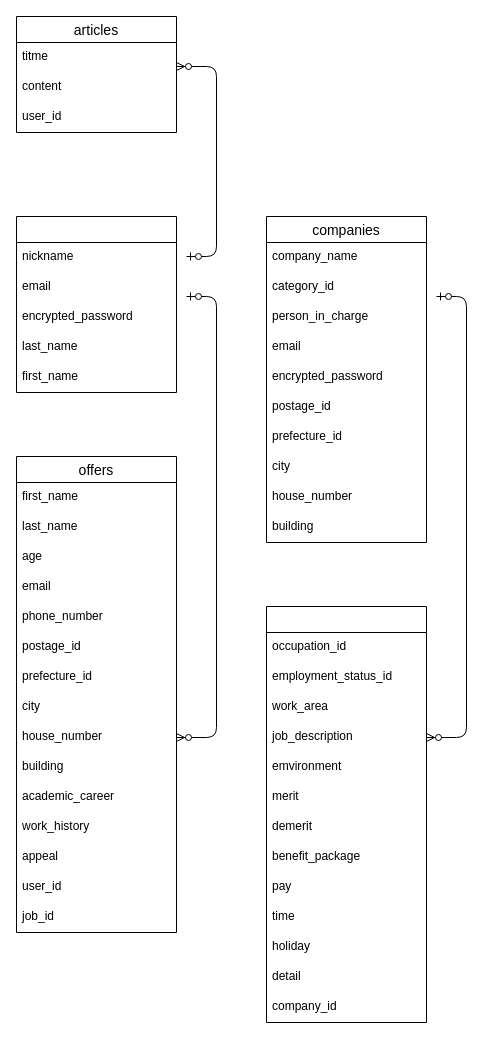
The diagram is 483 pixels wide and 1039 high, and some of its shapes have lost their labels. Each missing label, with the box of its shape:
jobs: (266, 606, 426, 1022)
users: (16, 216, 176, 392)
